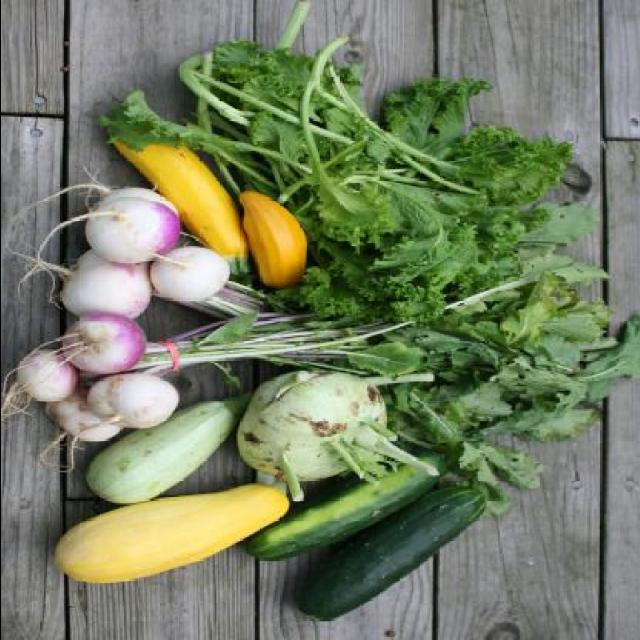Zucchini: (283, 499, 492, 627), (104, 120, 252, 282), (251, 450, 447, 556), (228, 186, 308, 290)
